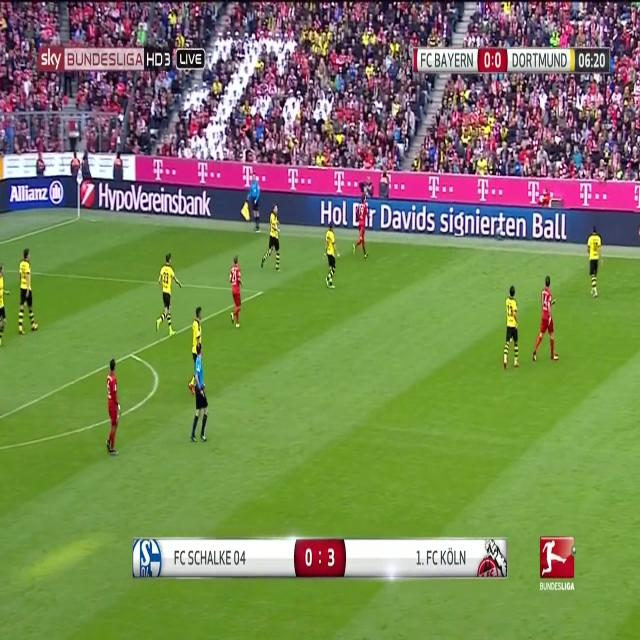Player: (153, 251, 184, 341), (530, 272, 560, 364), (15, 247, 40, 336), (104, 355, 123, 459), (501, 285, 522, 373), (259, 202, 283, 277), (188, 302, 204, 396), (226, 254, 245, 332), (322, 220, 342, 289), (350, 192, 370, 260), (586, 225, 604, 300), (0, 261, 10, 350)
Referee: (189, 343, 212, 448), (247, 172, 262, 236)
